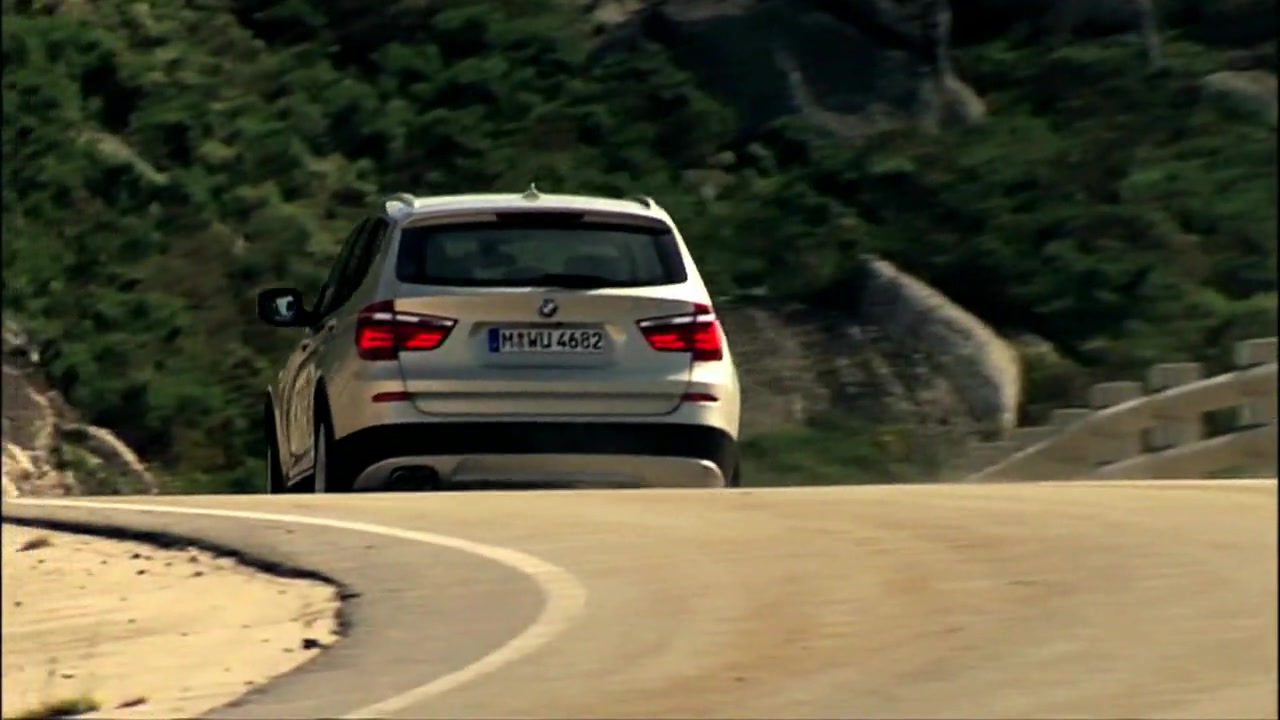car: (255, 186, 746, 497)
